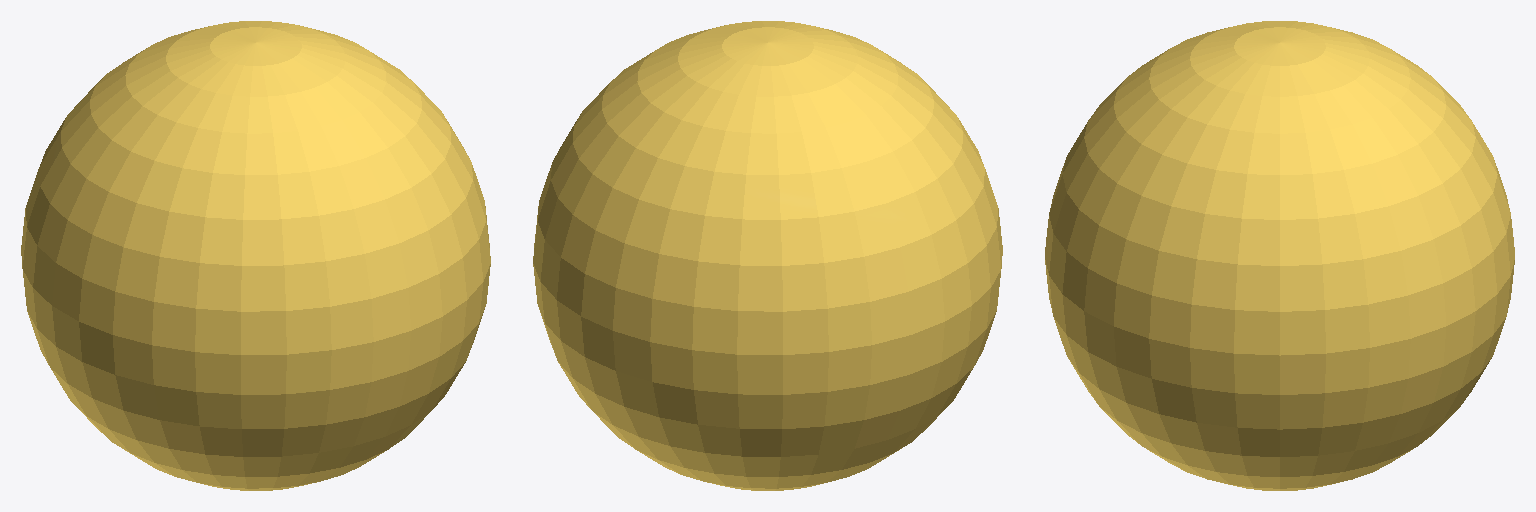
3 views of the same model, side by side, from view 1: azimuth 30°, elevation 25°; view 2: azimuth 150°, elevation 25°; view 3: azimuth 270°, elevation 25° (orthographic).
Visible parts, largest first — view 1: 球; view 2: 球; view 3: 球.
Boxes of the visible parts, x1,y1,x2,y2 form: 球: [21, 21, 490, 490]; 球: [533, 21, 1002, 490]; 球: [1045, 21, 1514, 490].
Bounding box in the file's own units: 2 × 2 × 2.
1 materials, 1 textured.